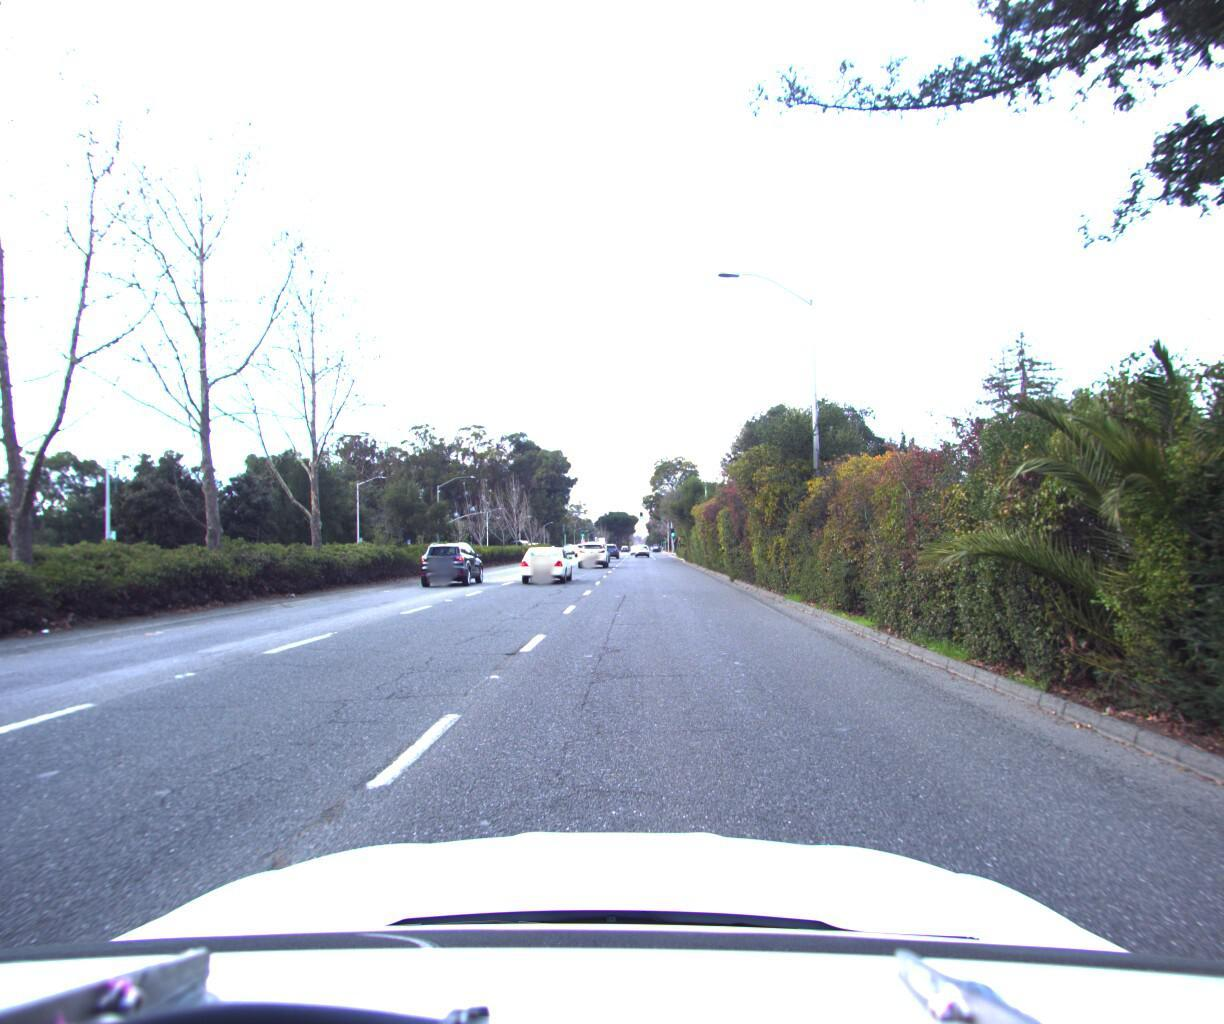car: (418, 535, 487, 584), (518, 534, 574, 581), (574, 537, 607, 565)
